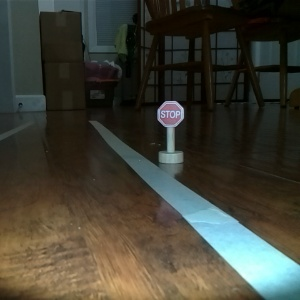stop sign: (154, 99, 186, 165)
